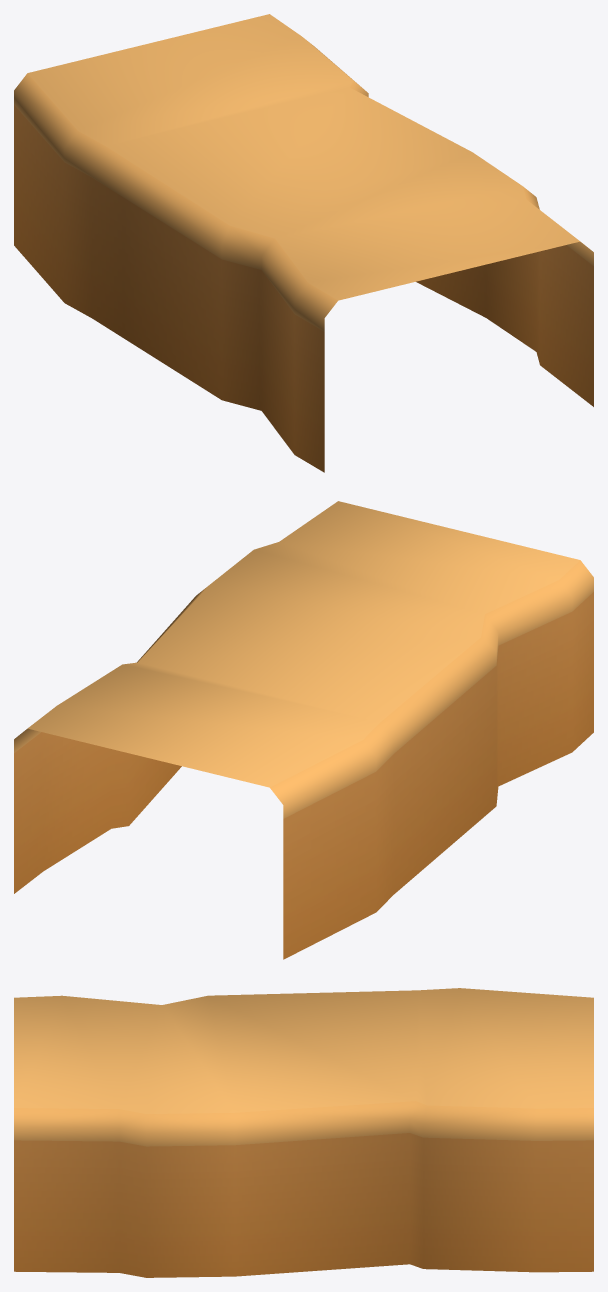
Rendered from Straight L Path 02.FBX.
3 renders of one model, top to bottom at view 1: azimuth 30°, elevation 25°; view 2: azimuth 150°, elevation 25°; view 3: azimuth 270°, elevation 25°, orthographic. The views are drawn at different scales.
Visible parts, largest first — view 1: Straight L Path 02; view 2: Straight L Path 02; view 3: Straight L Path 02.
Part boxes in pixels (bbox=[...]): Straight L Path 02: bbox=[14, 14, 593, 472]; Straight L Path 02: bbox=[14, 501, 593, 959]; Straight L Path 02: bbox=[14, 988, 593, 1277].
Bounding box in the file's own units: 564 × 300 × 1000.
Materials: 1 (1 with a texture image).
